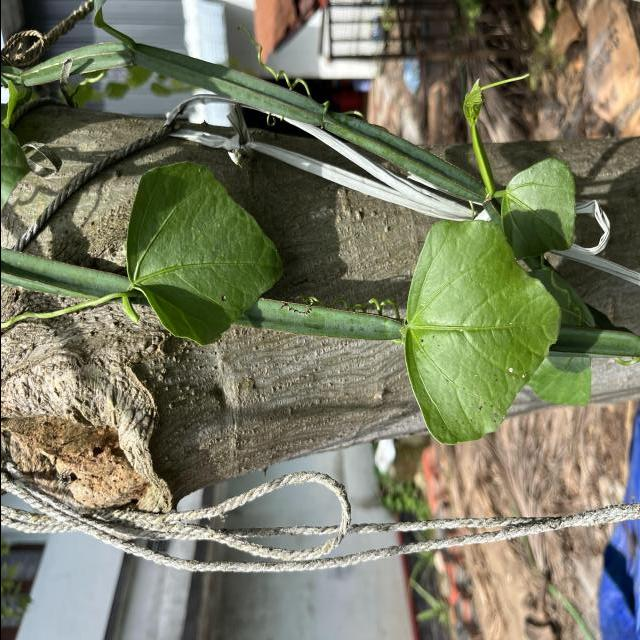Cissus quadrangularis: (400, 215, 564, 450), (120, 158, 286, 350), (494, 154, 578, 262)
